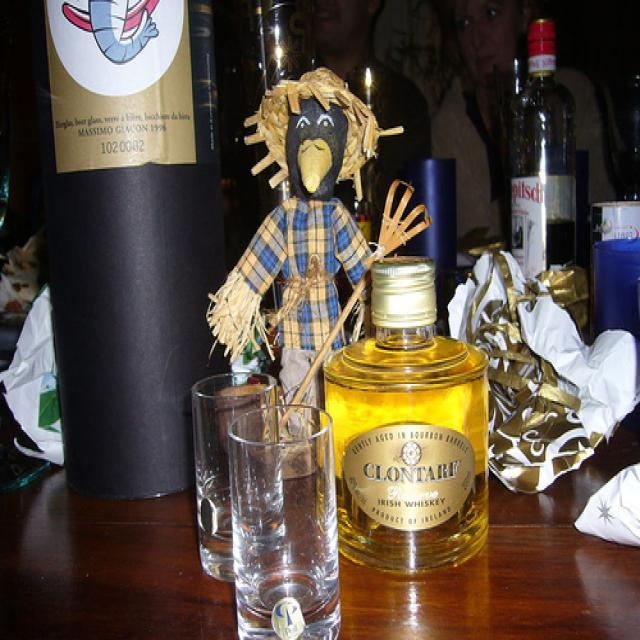Bottle: (40, 0, 220, 499), (349, 253, 480, 588), (519, 41, 606, 335)
Cup: (238, 408, 355, 640), (166, 367, 262, 574)
People: (265, 0, 408, 150), (462, 0, 546, 175)
